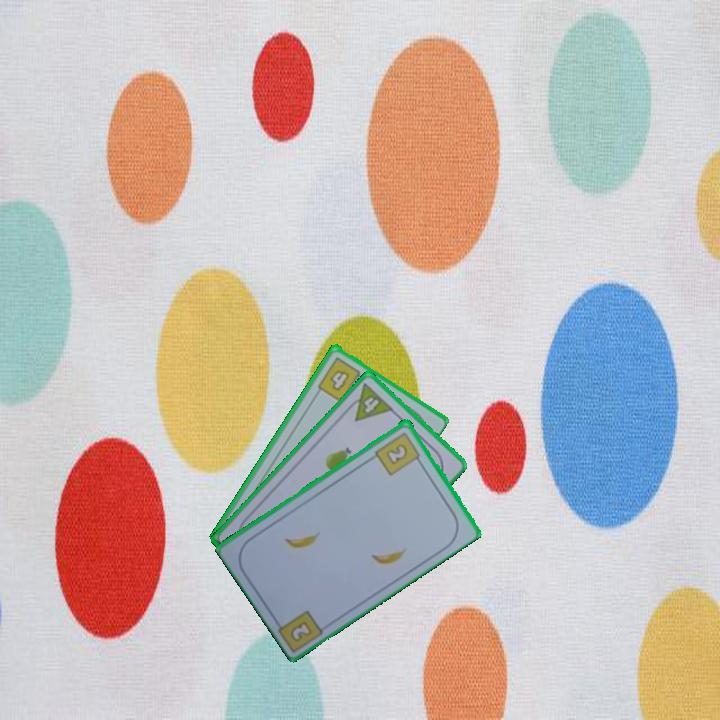2b: (372, 428, 425, 478), (289, 619, 313, 643)
4b: (314, 352, 368, 404)
4p: (341, 379, 396, 424)
